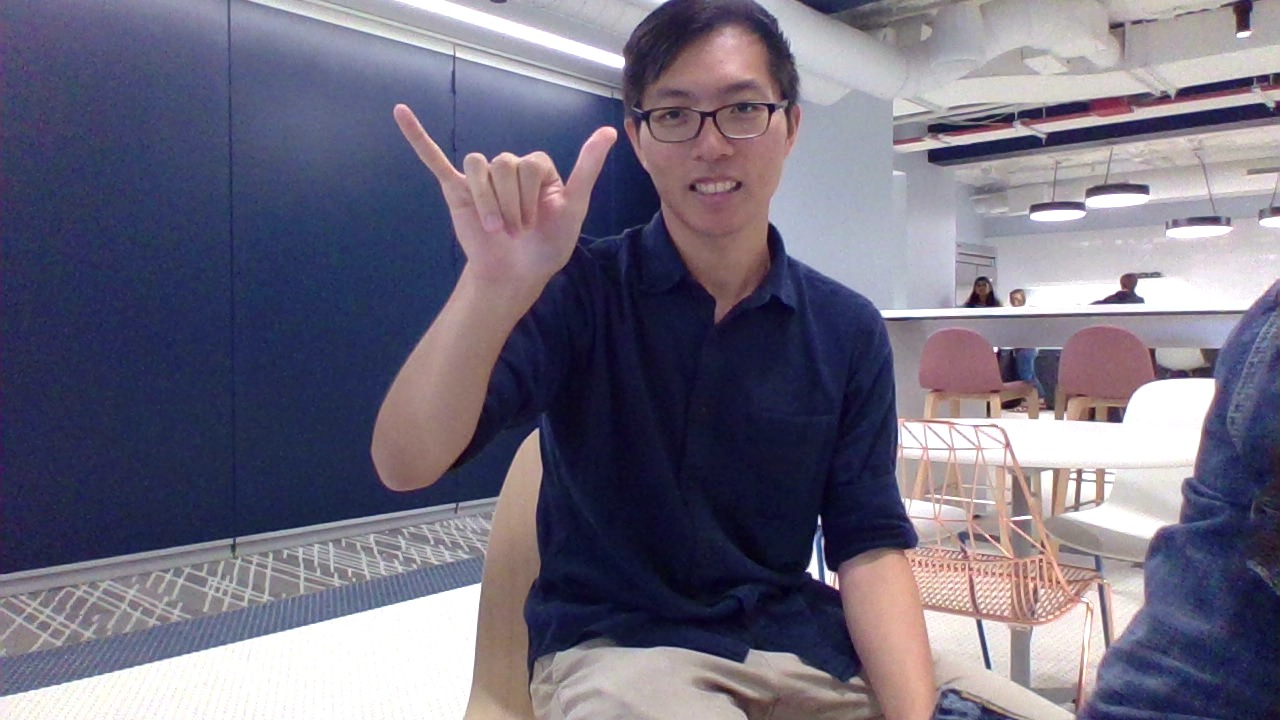y: (380, 91, 630, 290)
